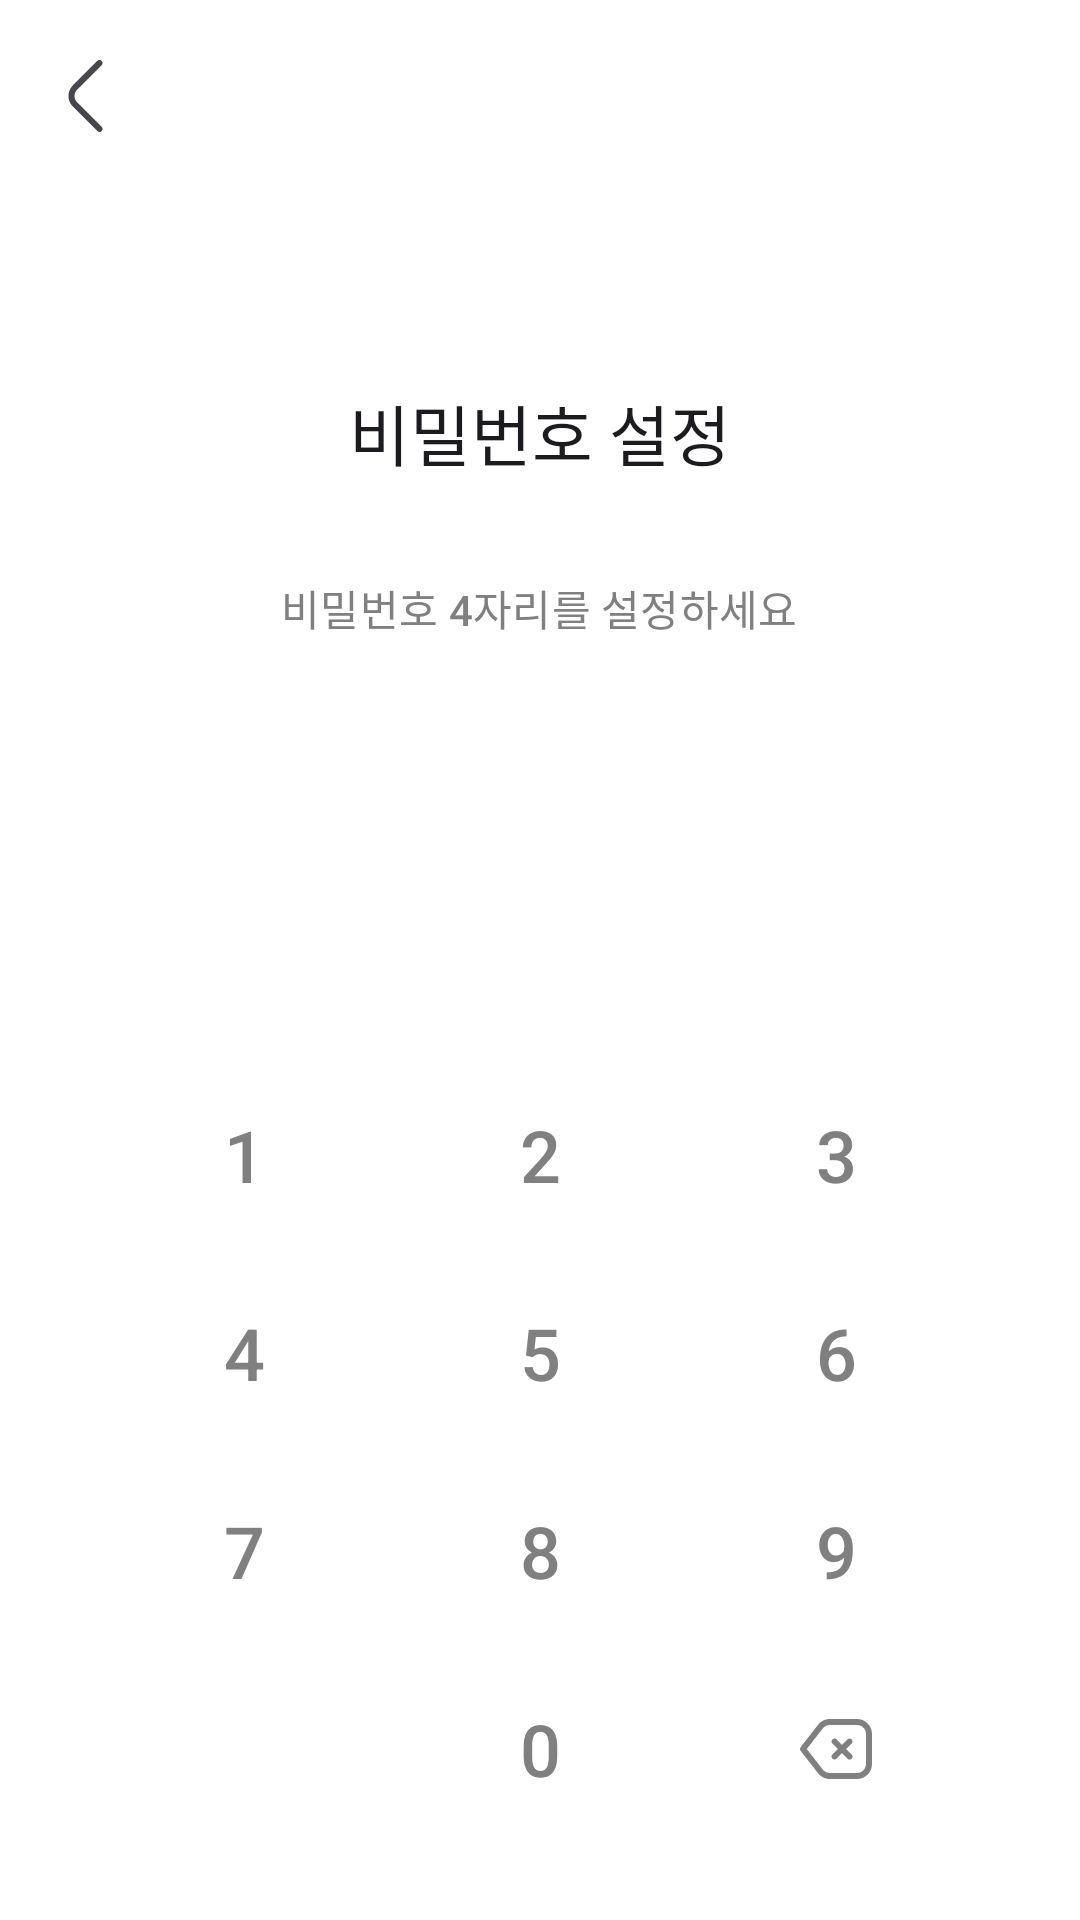

Icon click points for this 1080 x 1920 phone screenshot, format [x,y]:
clear: [836,1749]
